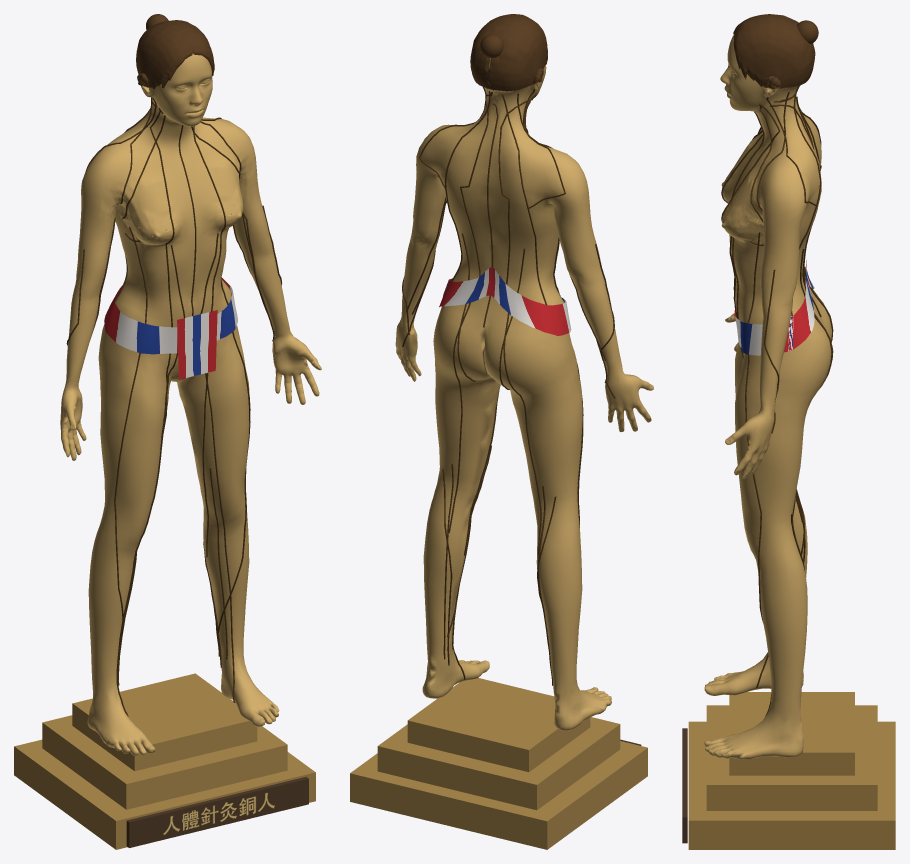
Rendered from tcm-bronze-figure.glb.
3 views of the same model, side by side, from view 1: azimuth 30°, elevation 25°; view 2: azimuth 150°, elevation 25°; view 3: azimuth 270°, elevation 25° (orthographic). The views are drawn at different scales.
Parts seen in each view (by area): view 1: bronze_body, pedestal_mid, pedestal_top, bronze_meridians, pedestal_base, pedestal_plaque, bronze_hair_shell, bronze_sash_band, bronze_sash_flap; view 2: bronze_body, pedestal_base, pedestal_top, pedestal_mid, bronze_meridians, bronze_hair_shell, bronze_sash_band; view 3: bronze_body, pedestal_base, pedestal_mid, pedestal_top, bronze_hair_shell, bronze_meridians, bronze_sash_band, pedestal_plaque.
Part boxes in pixels (x1,y1,x2,y2): bronze_body: (60, 53, 321, 755); pedestal_mid: (42, 715, 287, 809); pedestal_top: (72, 673, 257, 771); bronze_meridians: (66, 97, 282, 716); pedestal_base: (14, 739, 315, 849); pedestal_plaque: (126, 776, 308, 847); bronze_hair_shell: (136, 20, 214, 89); bronze_sash_band: (104, 277, 237, 354); bronze_sash_flap: (177, 310, 217, 379); bronze_body: (395, 58, 653, 730); pedestal_base: (350, 741, 647, 849); pedestal_top: (407, 678, 590, 772); pedestal_mid: (377, 717, 620, 810); bronze_meridians: (402, 87, 615, 685); bronze_hair_shell: (470, 14, 547, 91); bronze_sash_band: (439, 267, 571, 335); bronze_body: (704, 34, 831, 759); pedestal_base: (688, 721, 895, 849); pedestal_mid: (706, 705, 877, 810); pedestal_top: (729, 692, 854, 775); bronze_hair_shell: (733, 14, 815, 89); bronze_meridians: (721, 85, 833, 715); bronze_sash_band: (734, 260, 814, 355); pedestal_plaque: (682, 728, 687, 843).
Size of the model in its own units: 0.66 by 1.92 by 0.474.
6 materials, 3 textured.
